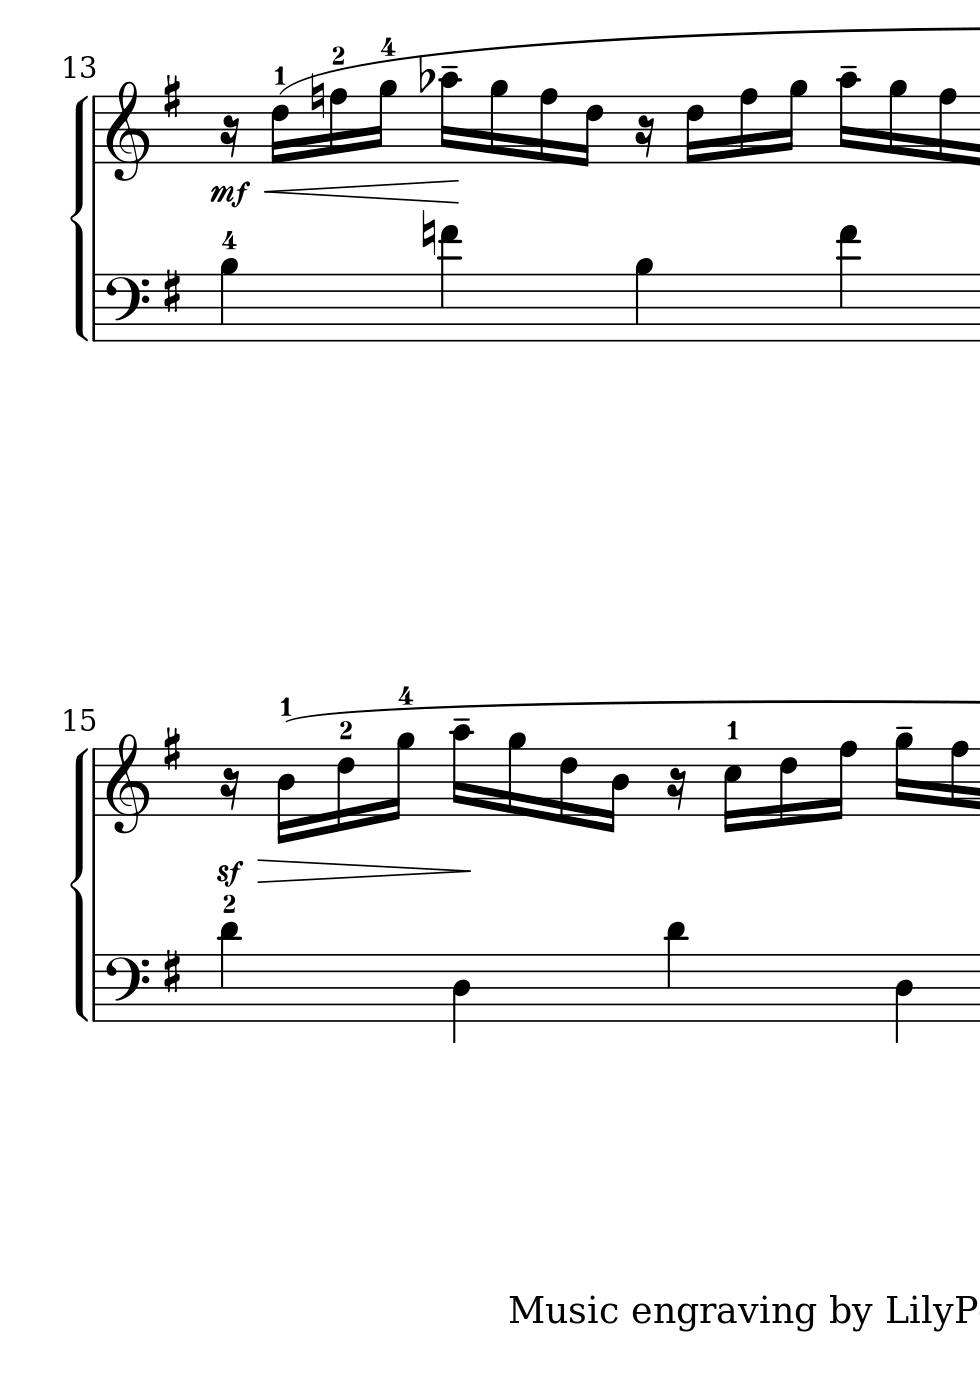1: (62, 706, 75, 734), (63, 53, 75, 81), (278, 694, 291, 718), (273, 64, 286, 86), (725, 719, 739, 741)
16_10: (437, 70, 462, 166), (449, 721, 474, 817), (836, 71, 860, 165)
16_4: (603, 745, 630, 834), (275, 745, 296, 844)
16_5: (720, 747, 742, 835)
16_6: (576, 93, 603, 168), (335, 745, 356, 834), (777, 745, 798, 829), (558, 745, 578, 827), (684, 93, 705, 166), (269, 94, 290, 166)
16_8: (828, 739, 857, 822), (327, 86, 348, 166), (937, 86, 958, 166), (948, 739, 969, 818), (738, 86, 758, 166), (538, 87, 558, 166)
16_9: (384, 730, 415, 822), (778, 77, 807, 166), (368, 78, 397, 166), (506, 730, 526, 819), (488, 77, 508, 165), (886, 77, 906, 165), (892, 731, 911, 819)
2: (336, 719, 354, 741), (329, 43, 346, 66), (220, 893, 237, 915)
3: (78, 53, 97, 80)
4: (220, 229, 238, 251), (397, 683, 413, 705), (380, 36, 395, 56)
4_11: (217, 922, 240, 1024)
4_13: (835, 224, 860, 344), (437, 225, 461, 344)
4_4: (450, 953, 471, 1043), (893, 953, 913, 1043)
4_9: (632, 256, 654, 343), (218, 255, 239, 343)
5: (78, 705, 97, 733)
8_11: (662, 919, 688, 1027)
Brace: (68, 748, 89, 1024), (69, 97, 88, 338)
Crescendo_hairpin: (266, 178, 462, 208)
Diminuendo_hairpin: (253, 856, 474, 883)
Fclef: (102, 271, 150, 343), (103, 952, 148, 1023)
Flat: (416, 54, 434, 95)
Gclef: (104, 78, 151, 183), (104, 731, 151, 835)
Natural: (418, 208, 437, 258), (308, 71, 325, 121)
Rests16: (218, 766, 241, 812), (665, 767, 687, 812), (633, 115, 655, 159), (218, 115, 240, 160)
Sharp: (161, 268, 183, 317), (161, 948, 183, 997), (161, 73, 182, 121), (161, 726, 182, 773)
Single_barline: (87, 749, 103, 815), (87, 97, 102, 163), (88, 955, 103, 1022), (88, 274, 102, 343)
mf: (208, 177, 252, 209)
sf: (214, 859, 244, 888)
